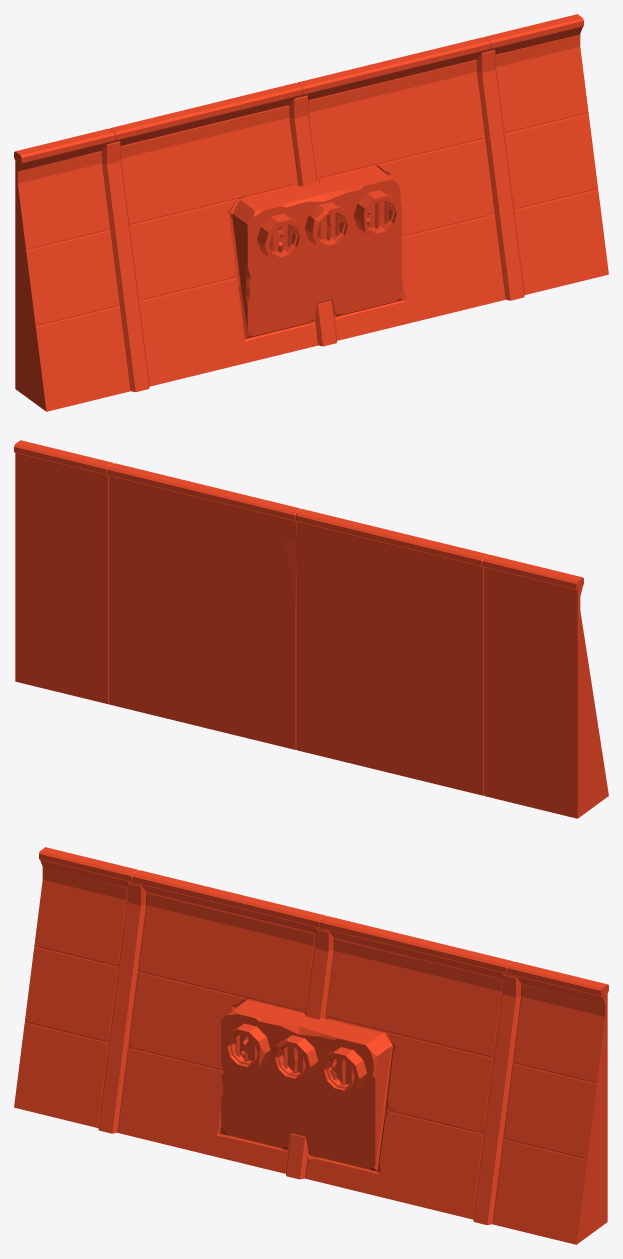
Rendered from SM_Wall_Pipes_City.fbx.
The picture shows the model from 3 angles, top to bottom: view 1: azimuth 30°, elevation 25°; view 2: azimuth 150°, elevation 25°; view 3: azimuth 330°, elevation 25°; orthographic projection.
Visible parts, largest first — view 1: SM_Wall_Pipes_City; view 2: SM_Wall_Pipes_City; view 3: SM_Wall_Pipes_City.
Boxes of the visible parts, x1,y1,x2,y2 form: SM_Wall_Pipes_City: (14, 14, 608, 411); SM_Wall_Pipes_City: (14, 440, 608, 818); SM_Wall_Pipes_City: (14, 847, 608, 1244).
Size of the model in its own units: 30 by 12.1 by 3.44.
